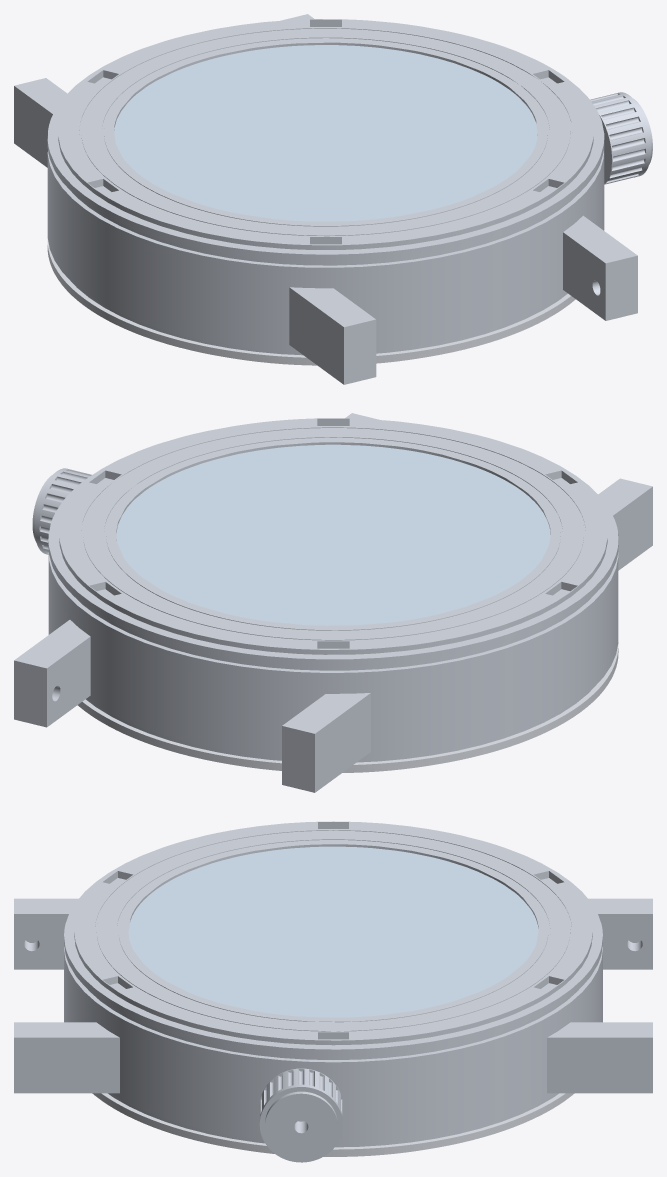
File: watch_caliber_assembly.glb
3 renders of one model, top to bottom at view 1: azimuth 30°, elevation 25°; view 2: azimuth 150°, elevation 25°; view 3: azimuth 270°, elevation 25°, orthographic. The views are drawn at different scales.
Visible parts, largest first — view 1: watch_caliber_assembly (×3); view 2: watch_caliber_assembly (×3); view 3: watch_caliber_assembly (×3).
Part boxes in pixels (x1=…): watch_caliber_assembly (×3): x1=14, y1=14, x2=652, y2=384; watch_caliber_assembly (×3): x1=14, y1=413, x2=652, y2=792; watch_caliber_assembly (×3): x1=14, y1=821, x2=652, y2=1162.
Size of the model in its own units: 0.0464 by 0.0102 by 0.0498.
